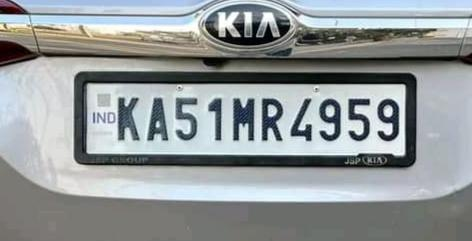1: (205, 93, 226, 149)
4: (289, 94, 316, 145)
5: (345, 95, 375, 147), (174, 93, 202, 144)
9: (316, 96, 345, 145), (376, 94, 401, 147)
A: (144, 93, 173, 147)
K: (113, 94, 145, 143)
M: (229, 92, 260, 147)
R: (259, 93, 287, 145)
